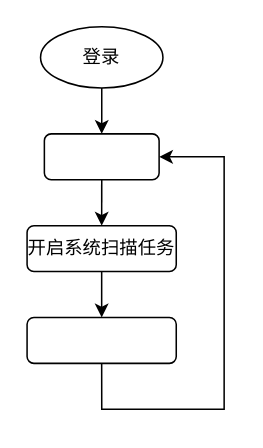
Image size: 263x448. Some labels were removed from this diagram. The shapes that lost their labels are listed below. From the top down, each one's centre as x and y in pixels, then its label:
point 101,156: 查看日志
point 101,339: 设置系统配置参数
